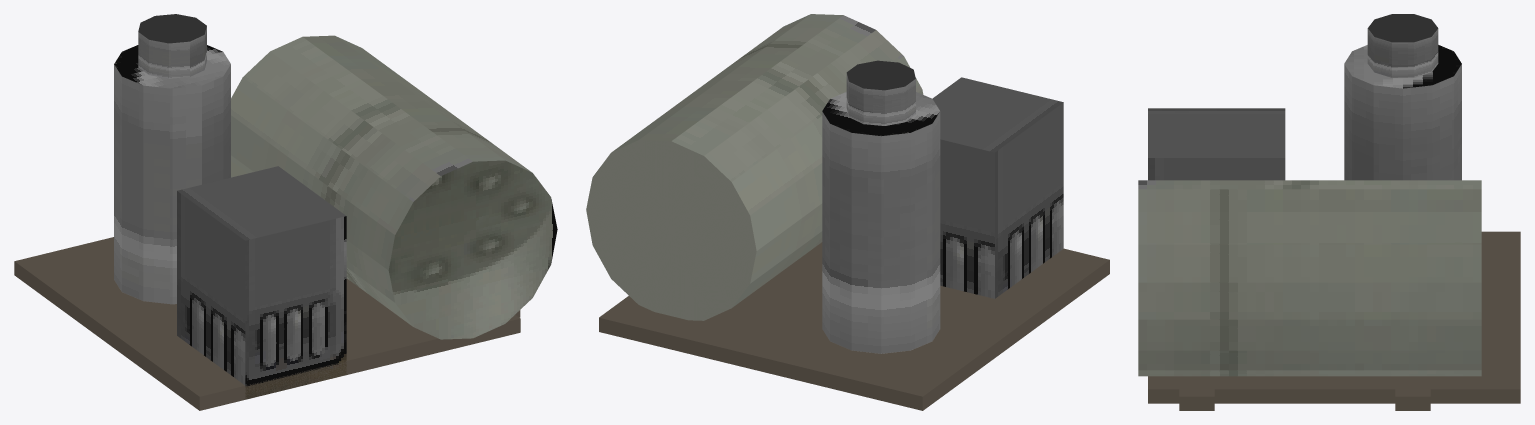
File: Building_WoodFiredGenerator.glb
The picture shows the model from 3 angles, left to right: view 1: azimuth 30°, elevation 25°; view 2: azimuth 150°, elevation 25°; view 3: azimuth 270°, elevation 25°; orthographic projection.
Visible parts, largest first — view 1: WoodFiredGenerator; view 2: WoodFiredGenerator; view 3: WoodFiredGenerator.
Boxes of the visible parts, x1,y1,x2,y2 form: WoodFiredGenerator: (14, 14, 557, 410); WoodFiredGenerator: (586, 14, 1109, 410); WoodFiredGenerator: (1138, 14, 1520, 410).
Bounding box in the file's own units: 2.09 × 1.5 × 1.95.
1 material, 1 textured.
